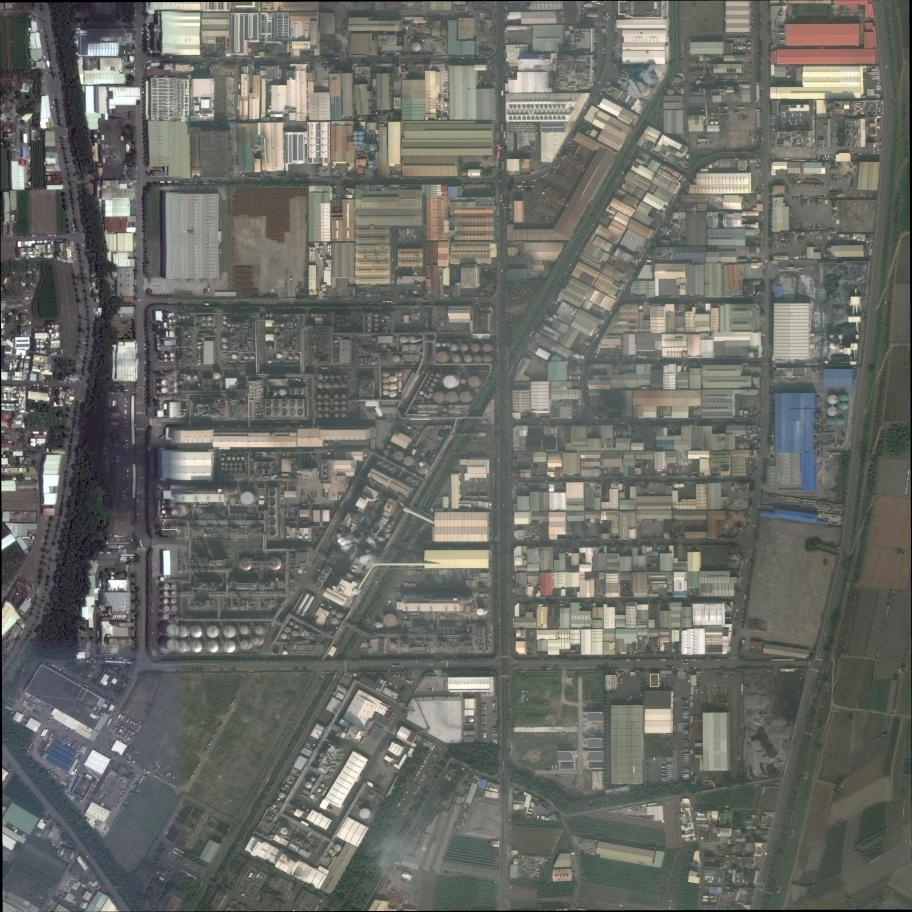large-vehicle: (387, 712, 394, 721), (490, 54, 497, 62), (106, 719, 112, 727), (139, 540, 144, 549), (381, 702, 390, 707), (681, 699, 688, 702), (744, 593, 747, 600), (504, 207, 506, 216), (502, 162, 504, 170), (762, 184, 764, 192), (392, 665, 400, 667), (650, 491, 655, 494), (501, 125, 503, 132), (503, 131, 505, 138), (502, 204, 504, 211), (667, 667, 673, 669), (239, 84, 241, 89), (383, 301, 392, 302), (683, 663, 690, 664)
ship: (530, 198, 534, 207), (499, 173, 501, 182), (500, 194, 502, 201), (519, 189, 524, 191)
storage-tank: (240, 492, 254, 505), (443, 375, 456, 388), (223, 641, 236, 653), (240, 558, 252, 571), (269, 558, 282, 570), (177, 625, 189, 638), (176, 640, 188, 653), (174, 504, 186, 517), (433, 391, 446, 403), (384, 614, 397, 626), (223, 626, 235, 638), (191, 626, 203, 638), (207, 626, 219, 638), (167, 639, 179, 651), (207, 641, 219, 653), (167, 624, 178, 636), (191, 641, 202, 652), (436, 352, 447, 363), (460, 392, 471, 403), (468, 377, 479, 387), (447, 392, 457, 403), (359, 809, 370, 819), (239, 625, 249, 635), (827, 407, 837, 417), (393, 451, 403, 461), (240, 640, 249, 650), (828, 395, 837, 405), (255, 626, 264, 635), (404, 457, 413, 466), (412, 43, 421, 51), (252, 637, 260, 645), (471, 344, 479, 352), (483, 344, 491, 352), (452, 355, 460, 363), (464, 355, 471, 363), (483, 355, 491, 362), (418, 467, 426, 474), (267, 390, 274, 397), (281, 828, 288, 835), (474, 355, 481, 362), (840, 403, 847, 410), (835, 418, 842, 425), (477, 609, 484, 616), (334, 845, 341, 852), (399, 337, 407, 343), (392, 356, 400, 362), (279, 389, 285, 396), (213, 373, 220, 379), (161, 380, 168, 386), (461, 345, 468, 351), (409, 337, 415, 344), (840, 395, 847, 401), (826, 419, 833, 425), (331, 618, 337, 625), (305, 782, 312, 788), (281, 634, 287, 640), (221, 337, 227, 343), (274, 327, 280, 333), (230, 328, 236, 334), (163, 614, 169, 620), (162, 388, 168, 394), (451, 345, 457, 351), (389, 376, 395, 382), (389, 384, 395, 390), (667, 89, 673, 95), (291, 631, 297, 637), (317, 374, 323, 380), (317, 383, 323, 389), (324, 383, 330, 389), (333, 383, 339, 389), (383, 449, 389, 455), (163, 606, 170, 611), (279, 793, 285, 798), (285, 627, 290, 633), (231, 354, 237, 359), (171, 606, 177, 611), (172, 510, 177, 516), (170, 502, 176, 507), (468, 717, 474, 722), (675, 78, 681, 83), (389, 392, 395, 397), (389, 643, 395, 648), (375, 623, 381, 628), (336, 613, 342, 618), (358, 140, 363, 145), (222, 344, 227, 349), (353, 131, 358, 136), (201, 316, 206, 321), (207, 316, 212, 321), (164, 584, 169, 589), (172, 584, 177, 589), (164, 591, 169, 596), (171, 591, 176, 596), (164, 599, 169, 604), (171, 599, 176, 604), (170, 353, 175, 358), (174, 388, 179, 393), (383, 378, 388, 383), (461, 379, 466, 384), (324, 413, 329, 418), (341, 413, 346, 418), (317, 413, 322, 418), (317, 394, 322, 399), (331, 610, 336, 615), (402, 614, 407, 619), (419, 462, 424, 467), (345, 315, 350, 319), (353, 141, 358, 145), (353, 136, 358, 140), (277, 354, 282, 358), (269, 313, 274, 317), (191, 503, 196, 507), (187, 375, 191, 380), (193, 375, 197, 380), (174, 382, 178, 387), (446, 342, 450, 347), (383, 372, 387, 377), (395, 372, 399, 377), (383, 385, 388, 389), (430, 382, 434, 387), (428, 388, 433, 392), (704, 57, 709, 61), (334, 413, 339, 417), (341, 407, 346, 411), (334, 407, 339, 411), (324, 407, 329, 411), (341, 383, 345, 388), (324, 394, 328, 399), (334, 394, 339, 398), (317, 401, 322, 405), (324, 401, 329, 405), (334, 401, 339, 405), (317, 407, 322, 411), (311, 777, 315, 782), (229, 467, 233, 471), (236, 456, 240, 460), (224, 462, 228, 466), (224, 467, 228, 471), (229, 462, 233, 466), (234, 462, 238, 466), (234, 467, 238, 471), (242, 472, 246, 476), (221, 457, 225, 461), (835, 443, 839, 447), (368, 164, 372, 168), (244, 356, 248, 360), (345, 322, 349, 326), (336, 323, 340, 327), (358, 136, 362, 140), (288, 356, 292, 360), (358, 131, 362, 135), (201, 322, 205, 326), (173, 319, 177, 323), (178, 381, 182, 385), (162, 510, 166, 514), (374, 323, 378, 327), (374, 318, 378, 322), (442, 343, 446, 347), (383, 391, 387, 395), (436, 343, 440, 347), (433, 378, 437, 382), (419, 391, 423, 395), (443, 408, 447, 412), (323, 474, 327, 478), (323, 468, 327, 472), (337, 534, 341, 538), (290, 621, 294, 625), (294, 624, 298, 628), (330, 375, 334, 379), (336, 375, 340, 379), (342, 394, 346, 398), (342, 401, 346, 405), (387, 524, 391, 528), (387, 445, 391, 449), (320, 783, 324, 787), (317, 788, 321, 792), (840, 443, 843, 447), (241, 457, 245, 460), (239, 462, 242, 466), (239, 467, 242, 471), (233, 472, 236, 476), (237, 472, 241, 475), (281, 787, 284, 791), (223, 502, 227, 505), (354, 145, 357, 149), (368, 161, 372, 164), (314, 314, 318, 317), (341, 319, 345, 322), (336, 315, 340, 318), (341, 324, 345, 327), (251, 356, 254, 360), (222, 321, 226, 324), (223, 316, 226, 320), (277, 797, 280, 801), (169, 319, 172, 323), (168, 313, 172, 316), (82, 792, 85, 796), (171, 358, 174, 362), (162, 500, 165, 504), (374, 314, 378, 317), (374, 328, 378, 331), (436, 373, 439, 377), (375, 360, 378, 364), (372, 338, 376, 341), (711, 112, 714, 116), (711, 116, 714, 120), (711, 121, 714, 125), (715, 121, 718, 125), (323, 463, 327, 466), (325, 375, 328, 379), (384, 529, 388, 532), (425, 465, 429, 468), (407, 426, 411, 429), (232, 457, 235, 460), (221, 462, 224, 465), (221, 467, 224, 470), (229, 472, 232, 475), (227, 457, 230, 460), (234, 453, 237, 456), (222, 453, 225, 456), (311, 314, 314, 317), (319, 314, 322, 317), (341, 315, 344, 318), (337, 319, 340, 322), (228, 324, 231, 327), (265, 314, 268, 317), (272, 805, 275, 808), (208, 322, 211, 325), (197, 342, 200, 345), (197, 346, 200, 349), (182, 316, 185, 319), (178, 316, 181, 319), (172, 313, 175, 316), (164, 354, 167, 357), (248, 875, 251, 878), (164, 359, 167, 362), (180, 374, 183, 377), (159, 402, 162, 405), (162, 505, 165, 508), (424, 394, 427, 397), (387, 349, 390, 352), (877, 116, 880, 119), (870, 134, 873, 137), (290, 579, 293, 582), (344, 375, 347, 378), (163, 323, 167, 325), (238, 453, 240, 456), (323, 314, 326, 316), (356, 185, 358, 188), (359, 185, 361, 188), (334, 340, 336, 343), (334, 345, 336, 348), (272, 324, 275, 326), (276, 324, 279, 326), (281, 324, 283, 327), (232, 324, 234, 327), (198, 362, 200, 365), (202, 502, 205, 504), (160, 405, 162, 408), (379, 124, 382, 126), (381, 127, 384, 129), (429, 377, 431, 380), (427, 380, 429, 383), (425, 384, 427, 387), (429, 393, 431, 396), (739, 46, 741, 49), (878, 112, 880, 115), (871, 111, 873, 114), (873, 134, 876, 136), (671, 646, 674, 648), (432, 426, 435, 428), (307, 455, 309, 458), (304, 458, 306, 461), (307, 461, 309, 464), (302, 522, 305, 524), (305, 522, 308, 524), (306, 809, 309, 811), (245, 462, 247, 464), (245, 465, 247, 467), (245, 468, 247, 470), (285, 785, 287, 787), (287, 781, 289, 783), (289, 782, 291, 784), (287, 779, 289, 781), (229, 453, 231, 455), (232, 453, 234, 455), (294, 324, 296, 326), (335, 350, 337, 352), (269, 361, 271, 363), (233, 345, 235, 347), (236, 324, 238, 326), (185, 332, 187, 334), (187, 316, 189, 318), (207, 335, 209, 337), (198, 356, 200, 358), (198, 360, 200, 362), (206, 502, 208, 504), (250, 873, 252, 875), (199, 502, 201, 504), (184, 374, 186, 376), (181, 409, 183, 411), (160, 409, 162, 411), (334, 353, 336, 355), (334, 355, 336, 357), (382, 124, 384, 126), (379, 127, 381, 129), (384, 127, 386, 129), (377, 135, 379, 137), (431, 374, 433, 376), (699, 70, 701, 72), (693, 73, 695, 75), (696, 73, 698, 75), (699, 73, 701, 75), (702, 73, 704, 75), (734, 47, 736, 49), (734, 50, 736, 52), (743, 47, 745, 49), (702, 70, 704, 72), (696, 70, 698, 72), (693, 70, 695, 72), (444, 426, 446, 428), (446, 426, 448, 428), (449, 426, 451, 428), (679, 648, 681, 650), (679, 646, 681, 648), (679, 644, 681, 646), (672, 644, 674, 646), (708, 123, 710, 125), (678, 84, 680, 86), (691, 87, 693, 89), (304, 456, 306, 458), (307, 458, 309, 460), (430, 426, 432, 428), (291, 554, 293, 556), (292, 638, 294, 640), (298, 379, 300, 381), (303, 379, 305, 381), (321, 604, 323, 606), (411, 613, 413, 615), (414, 613, 416, 615), (417, 613, 419, 615), (403, 429, 405, 431), (407, 431, 409, 433), (427, 426, 429, 428), (313, 744, 315, 746), (293, 768, 295, 770), (296, 770, 298, 772), (298, 772, 300, 774), (297, 774, 299, 776), (292, 777, 294, 779), (303, 796, 305, 798), (302, 519, 305, 520), (246, 456, 247, 458), (246, 458, 247, 460), (294, 338, 296, 339), (201, 329, 202, 331), (208, 333, 209, 335), (206, 335, 207, 337), (209, 335, 210, 337), (211, 335, 212, 337), (213, 335, 214, 337), (198, 354, 200, 355), (184, 409, 185, 411), (291, 379, 292, 381), (748, 43, 750, 44), (328, 452, 329, 454), (296, 378, 297, 380), (336, 627, 337, 629), (305, 746, 306, 748), (301, 794, 302, 796), (306, 798, 308, 799), (260, 877, 261, 878), (198, 350, 199, 351), (198, 352, 199, 353), (294, 379, 295, 380), (330, 607, 331, 608), (316, 624, 317, 625), (307, 742, 308, 743), (306, 744, 307, 745), (311, 749, 312, 750)
